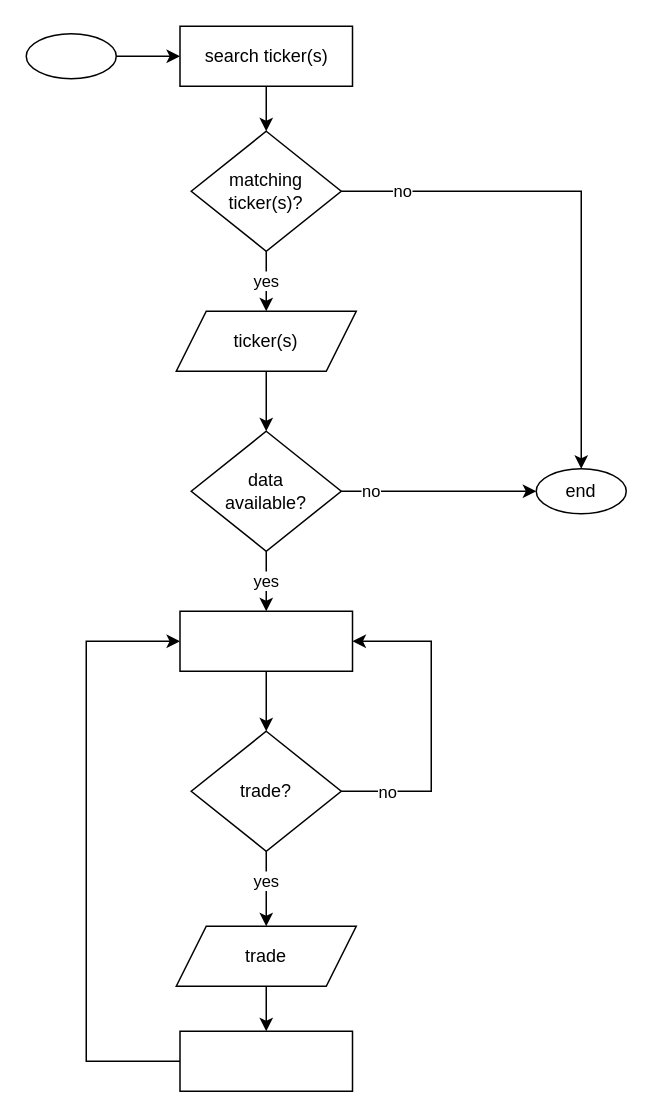
This 653x1118 diagram has some shape labels left out. The box of each missing label's shape, as (x1, y1, x2, y2) in pixels:
execute trade: (178, 1030, 352, 1091)
listen to ticker(s): (178, 610, 352, 671)
start: (25, 32, 116, 79)
